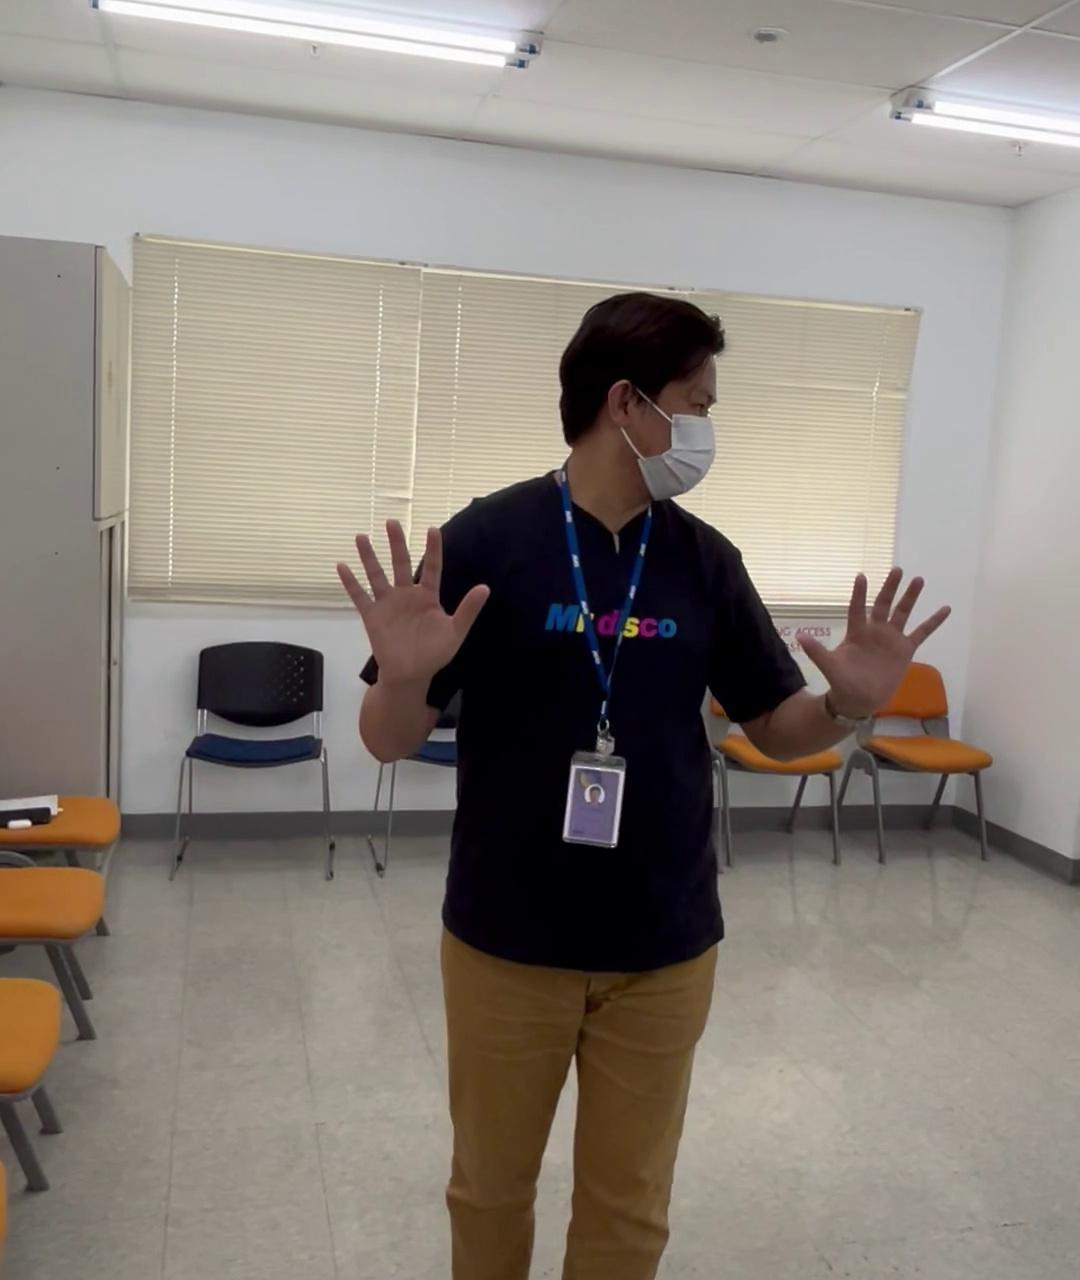No-gloves: (790, 556, 950, 721), (333, 512, 487, 671)
